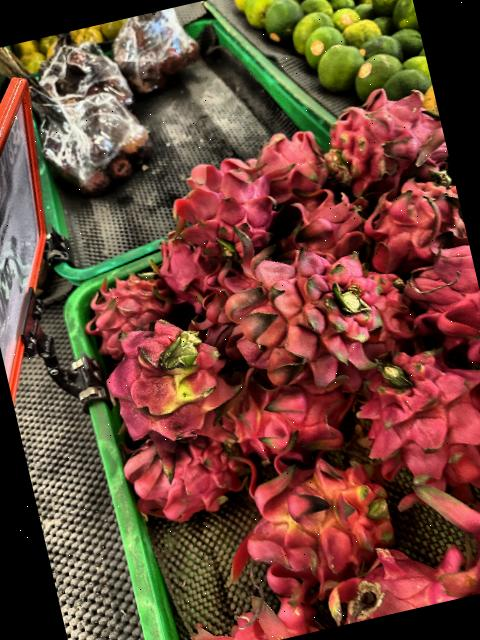buah-naga-belum-matang: (202, 426, 409, 594), (96, 307, 252, 463)
buah-naga-matang: (200, 223, 393, 401), (349, 335, 480, 512), (209, 359, 361, 476), (157, 142, 295, 262), (313, 532, 476, 628), (316, 82, 452, 196), (114, 416, 251, 526), (356, 168, 469, 268), (395, 229, 480, 361), (408, 455, 480, 603), (272, 180, 376, 266), (79, 262, 180, 346), (248, 117, 333, 205), (142, 226, 220, 310)
